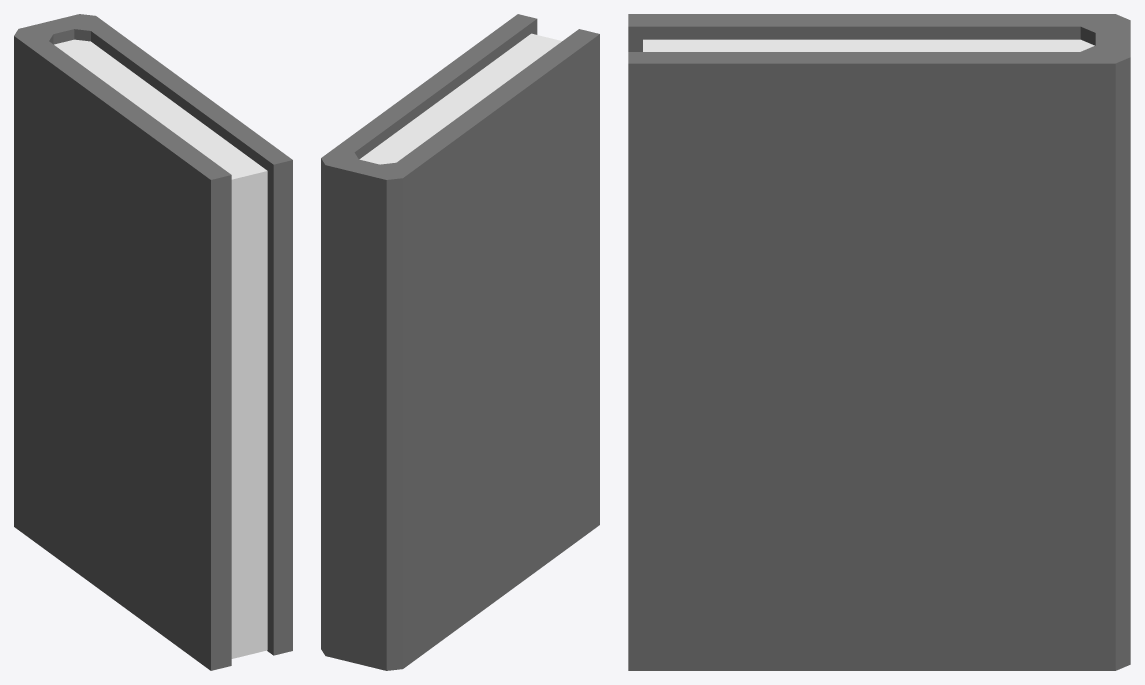
Rendered from Libro13.fbx.
3 views of the same model, side by side, from view 1: azimuth 30°, elevation 25°; view 2: azimuth 150°, elevation 25°; view 3: azimuth 270°, elevation 25° (orthographic). The views are drawn at different scales.
Visible parts, largest first — view 1: Libro13; view 2: Libro13; view 3: Libro13.
Boxes of the visible parts, bbox=[...] form: Libro13: bbox=[14, 14, 292, 670]; Libro13: bbox=[321, 14, 599, 670]; Libro13: bbox=[628, 14, 1130, 670].
Bounding box in the file's own units: 0.0328 × 0.1876 × 0.1405.
